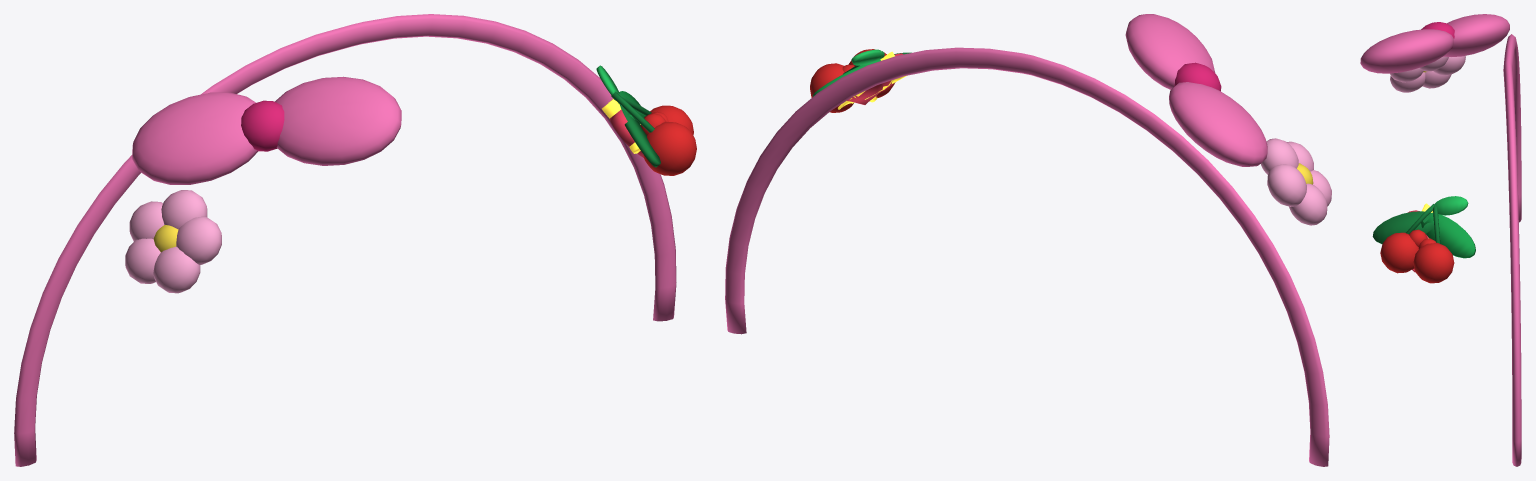
Rendered from props-x.glb.
3 views of the same model, side by side, from view 1: azimuth 30°, elevation 25°; view 2: azimuth 150°, elevation 25°; view 3: azimuth 270°, elevation 25° (orthographic). The views are drawn at different scales.
Visible parts, largest first — view 1: x-ribbon, x-flower, x-cherry, x-holly; view 2: x-ribbon, x-flower, x-cherry; view 3: x-ribbon, x-cherry, x-holly, x-flower.
Boxes of the visible parts, x1,y1,x2,y2 form: x-ribbon: [14, 14, 676, 466]; x-flower: [125, 190, 221, 293]; x-cherry: [596, 65, 696, 175]; x-holly: [614, 91, 668, 167]; x-ribbon: [725, 14, 1329, 466]; x-flower: [1261, 138, 1331, 225]; x-cherry: [810, 49, 894, 112]; x-ribbon: [1360, 14, 1521, 466]; x-cherry: [1380, 196, 1468, 283]; x-holly: [1372, 211, 1475, 258]; x-flower: [1390, 56, 1465, 92].
Bounding box in the file's own units: 0.5021 × 0.2757 × 0.1403.
